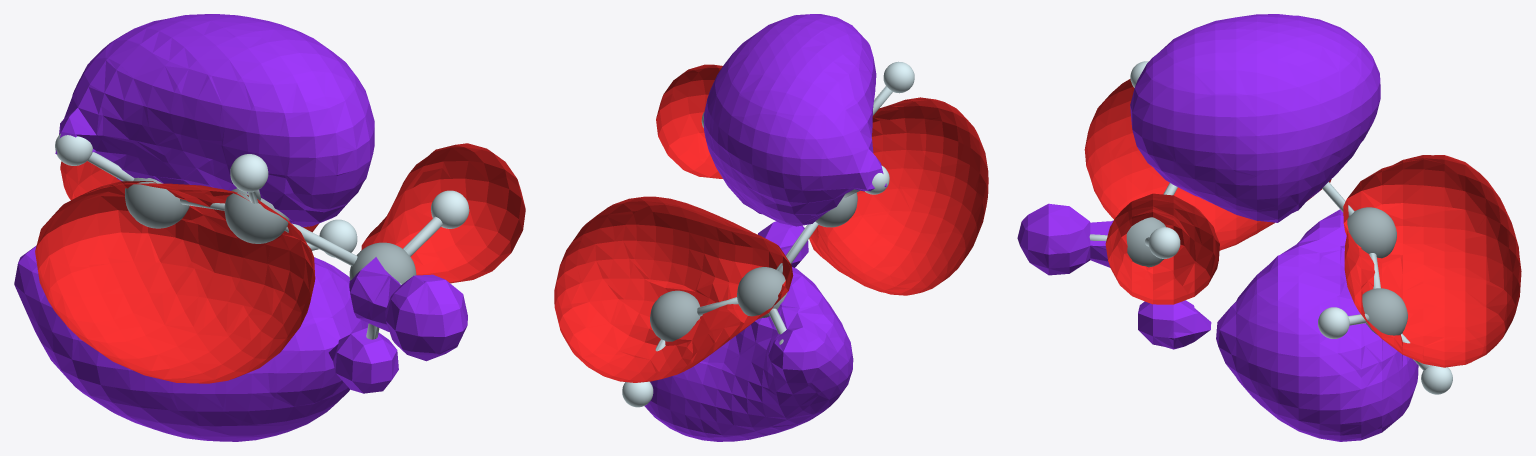
The picture shows the model from 3 angles, left to right: view 1: azimuth 30°, elevation 25°; view 2: azimuth 150°, elevation 25°; view 3: azimuth 270°, elevation 25°; orthographic projection. The views are drawn at different scales.
Parts seen in each view (by area): view 1: Renderer Node; view 2: Renderer Node; view 3: Renderer Node.
Part boxes in pixels (x1=…): Renderer Node: x1=14, y1=14, x2=525, y2=441; Renderer Node: x1=554, y1=14, x2=988, y2=441; Renderer Node: x1=1017, y1=14, x2=1521, y2=441.
Size of the model in its own units: 4.97 by 5.26 by 6.3.
